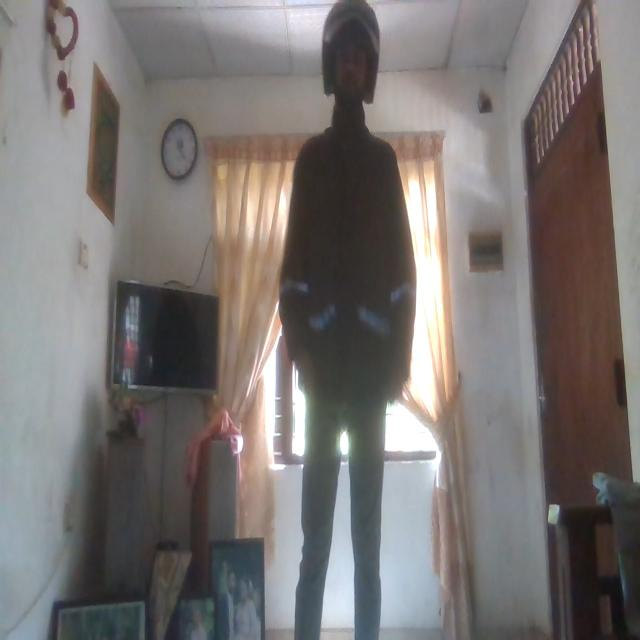Helmet_Wearer: (313, 0, 387, 122)
Jacket_Wearer: (279, 108, 419, 422)
Person: (279, 0, 416, 640)
